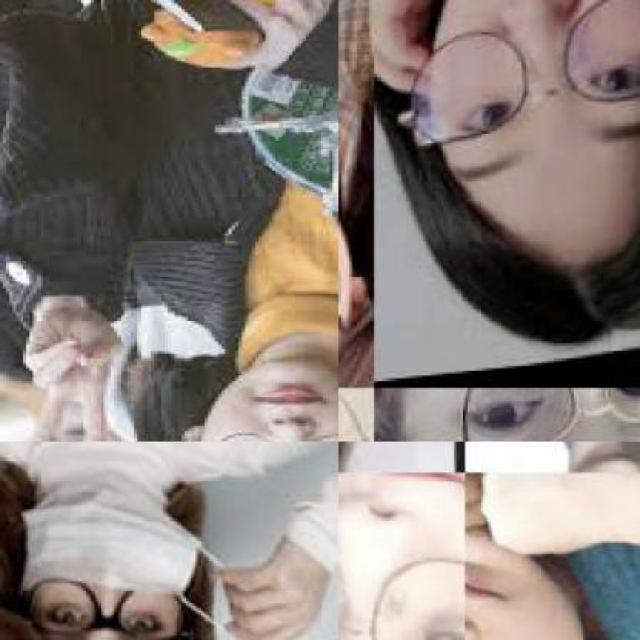mask: (386, 0, 639, 162), (374, 389, 638, 440), (9, 570, 197, 638), (185, 417, 338, 440)
